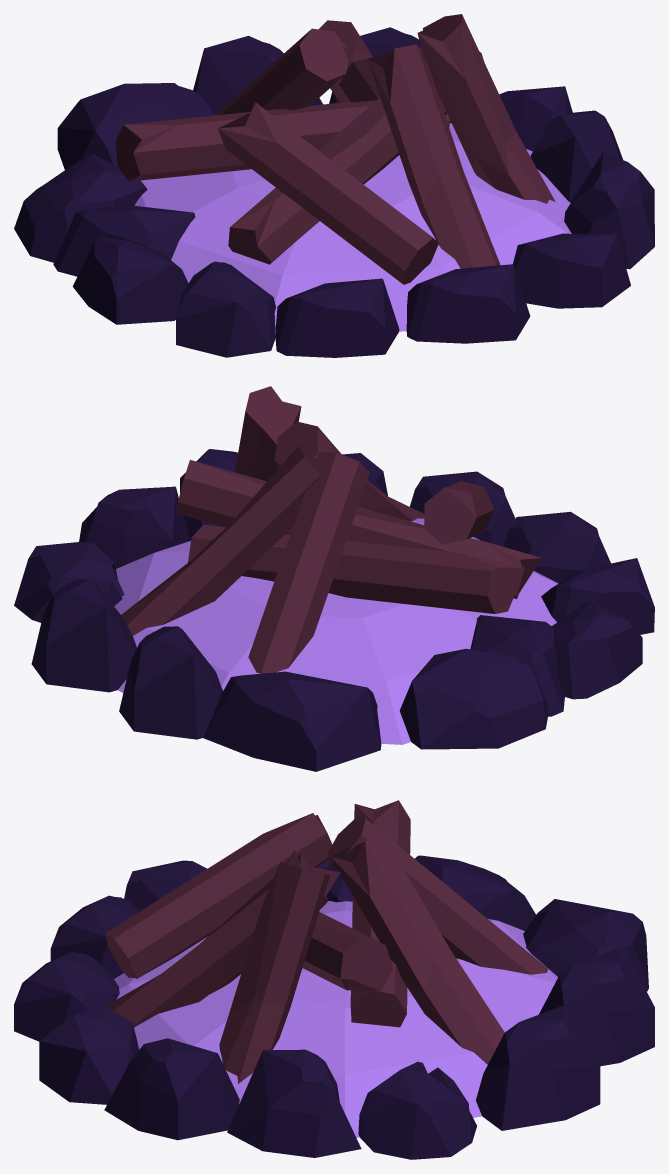
The model's file is firepit_001_grp.fbx.
The picture shows the model from 3 angles, top to bottom: view 1: azimuth 30°, elevation 25°; view 2: azimuth 150°, elevation 25°; view 3: azimuth 270°, elevation 25°; orthographic projection. The views are drawn at different scales.
Parts seen in each view (by area): view 1: firepit_001_grp; view 2: firepit_001_grp; view 3: firepit_001_grp.
Boxes of the visible parts, box(x1,y1,x2,y2) form: firepit_001_grp: box(14, 14, 654, 357); firepit_001_grp: box(14, 386, 654, 771); firepit_001_grp: box(14, 800, 654, 1159).
Size of the model in its own units: 280 by 100 by 280.
